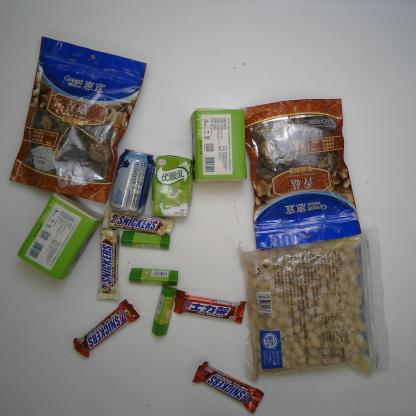Alcohol: (113, 148, 152, 215)
Chocolate: (71, 300, 140, 358), (194, 362, 265, 412), (176, 288, 246, 324), (99, 209, 173, 235), (98, 230, 124, 302)
Dried Food: (10, 30, 152, 207), (237, 226, 389, 376), (243, 98, 364, 249)
Milk: (152, 152, 194, 216)
Stationery: (152, 281, 177, 337), (118, 229, 170, 250), (129, 267, 178, 288)
Tissue: (15, 194, 104, 281), (191, 108, 246, 181)
